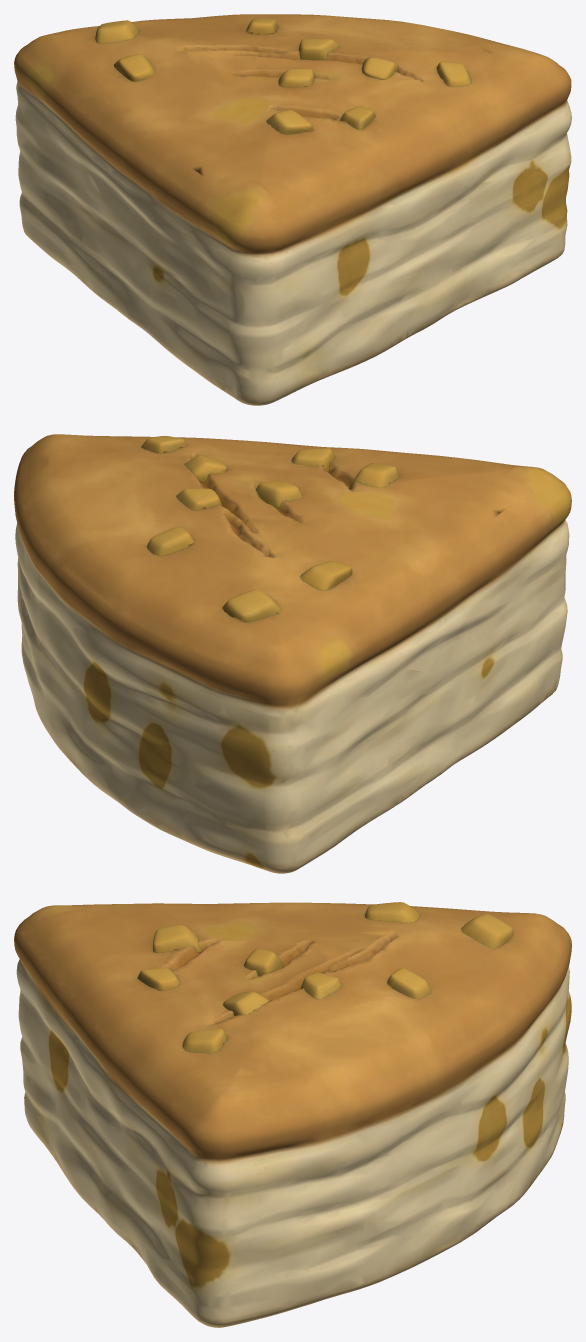
Rendered from scone--sweetpotato-roasted.glb.
3 views of the same model, one above another, from view 1: azimuth 30°, elevation 25°; view 2: azimuth 150°, elevation 25°; view 3: azimuth 270°, elevation 25° (orthographic). The views are drawn at different scales.
Visible parts, largest first — view 1: scone_sweetpotato-roasted; view 2: scone_sweetpotato-roasted; view 3: scone_sweetpotato-roasted.
Boxes of the visible parts, bbox=[...] form: scone_sweetpotato-roasted: bbox=[14, 14, 571, 405]; scone_sweetpotato-roasted: bbox=[14, 434, 571, 873]; scone_sweetpotato-roasted: bbox=[14, 902, 571, 1327].
Bounding box in the file's own units: 0.9359 × 0.4801 × 0.979.
Materials: 1 (1 with a texture image).
